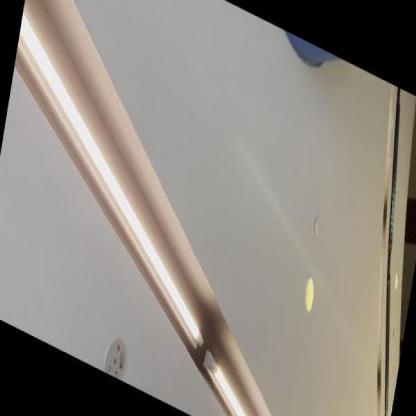light_on: (0, 13, 239, 365), (190, 338, 292, 415)
